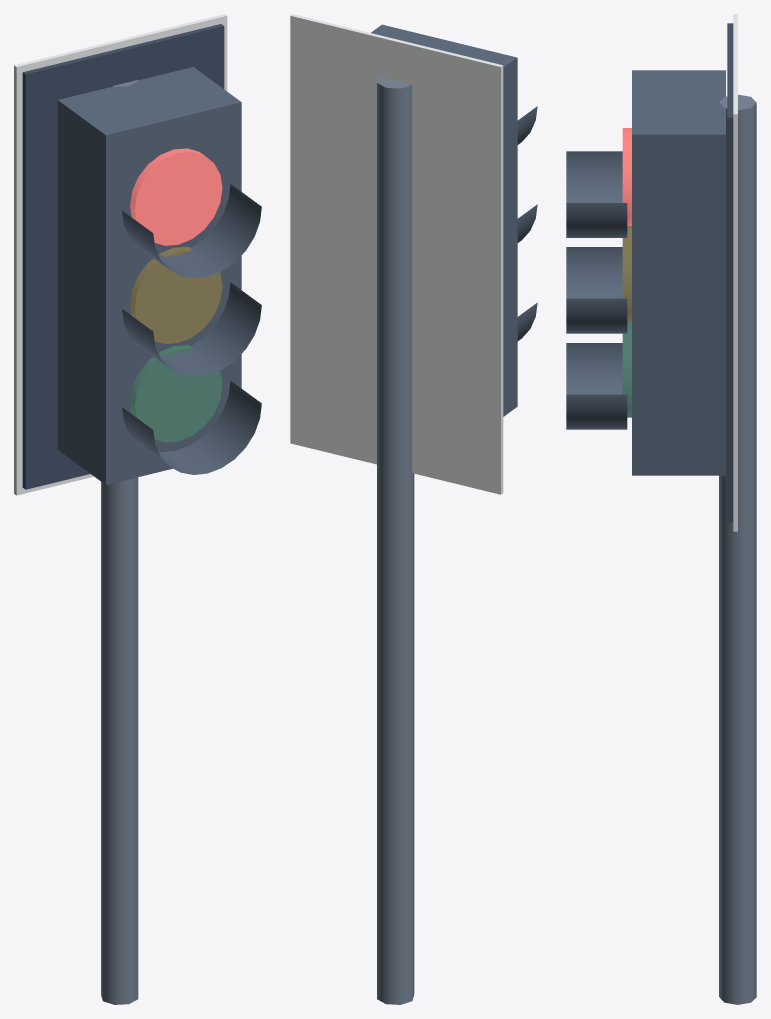
The model's file is light_0.glb.
The picture shows the model from 3 angles, left to right: view 1: azimuth 30°, elevation 25°; view 2: azimuth 150°, elevation 25°; view 3: azimuth 270°, elevation 25°; orthographic projection. The views are drawn at different scales.
Visible parts, largest first — view 1: c1e293b (×2), c111827, c334155, lamp_red:cff3838, cf1f5f9, lamp_green:c123126, lamp_yellow:c352d14; view 2: cf1f5f9, c334155, c1e293b (×2); view 3: c1e293b (×2), c334155, c111827, cf1f5f9, lamp_red:cff3838, lamp_green:c123126, lamp_yellow:c352d14.
Part boxes in pixels (box(x1,y1,x2,y2)): c1e293b (×2): box(57, 67, 261, 484); c111827: box(22, 24, 224, 489); c334155: box(101, 80, 138, 1004); lamp_red:cff3838: box(130, 148, 222, 245); cf1f5f9: box(14, 14, 227, 495); lamp_green:c123126: box(130, 345, 222, 442); lamp_yellow:c352d14: box(130, 246, 222, 343); cf1f5f9: box(290, 14, 503, 494); c334155: box(377, 76, 414, 1004); c1e293b (×2): box(371, 24, 537, 416); c1e293b (×2): box(566, 70, 725, 475); c334155: box(719, 94, 756, 1004); c111827: box(727, 23, 733, 522); cf1f5f9: box(733, 14, 737, 531); lamp_red:cff3838: box(622, 128, 631, 225); lamp_green:c123126: box(622, 322, 631, 417); lamp_yellow:c352d14: box(622, 226, 631, 321).
Bounding box in the file's own units: 1.01 × 4.38 × 0.81.
